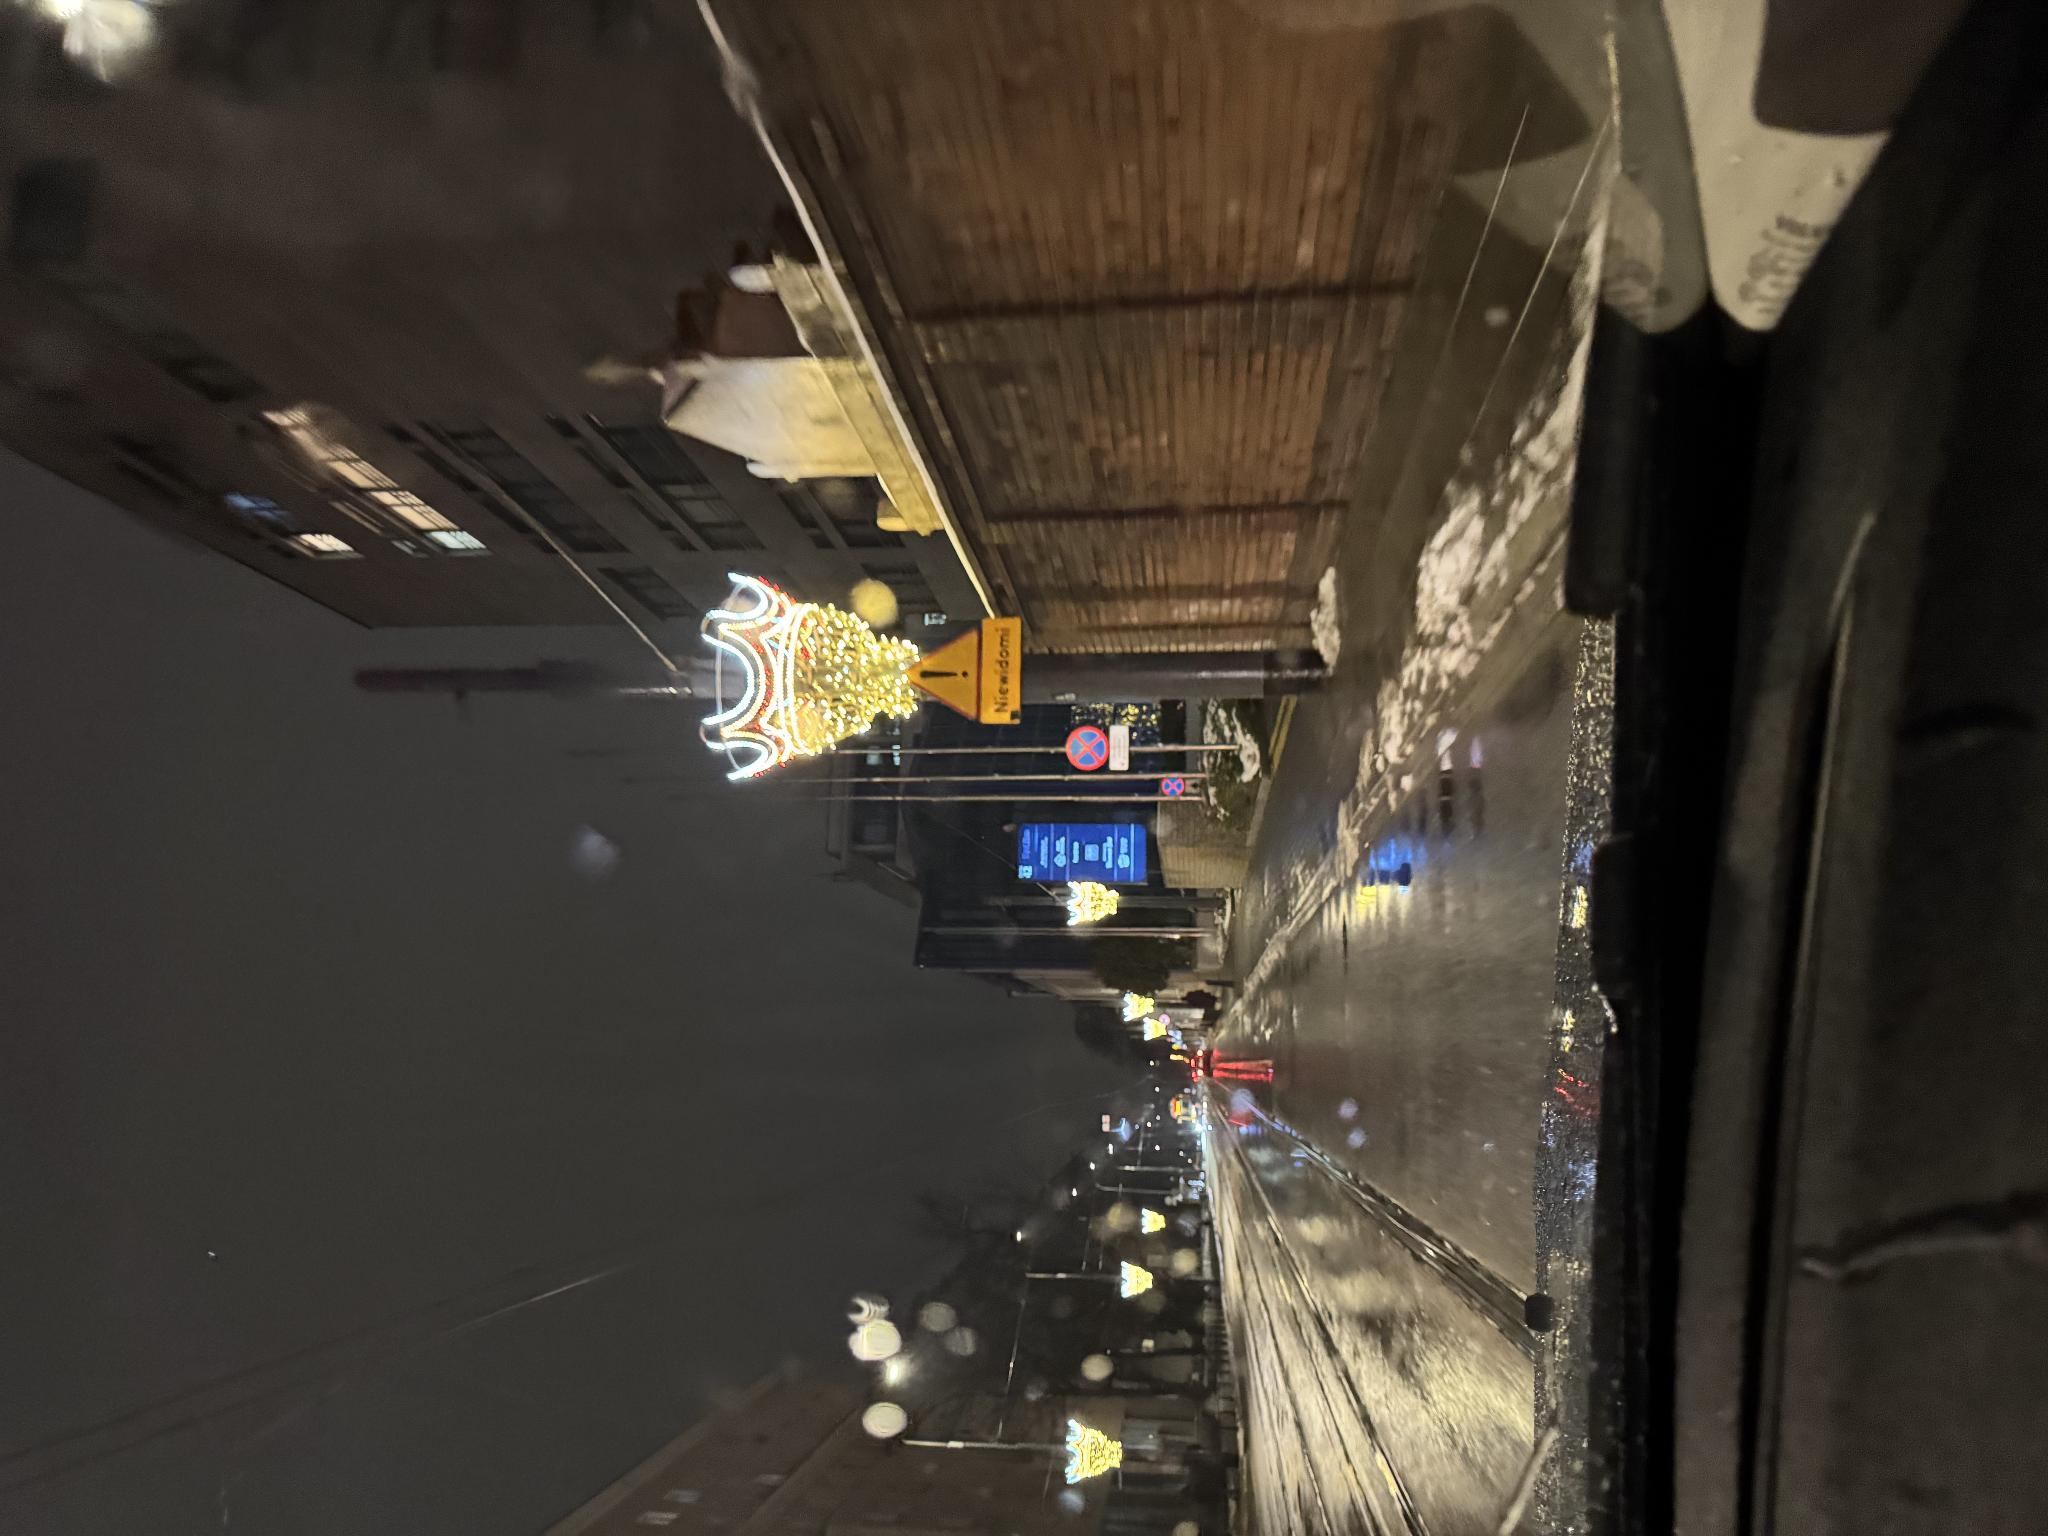other: (813, 979, 921, 1023), (766, 1108, 813, 1129)
prohibitory: (764, 1065, 811, 1110), (740, 1162, 758, 1184), (511, 1158, 521, 1171)
warning: (816, 900, 910, 979)
